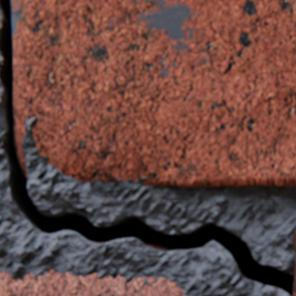brick: (12, 0, 295, 187), (0, 269, 185, 295), (293, 233, 295, 295)
crack: (0, 0, 293, 295)
